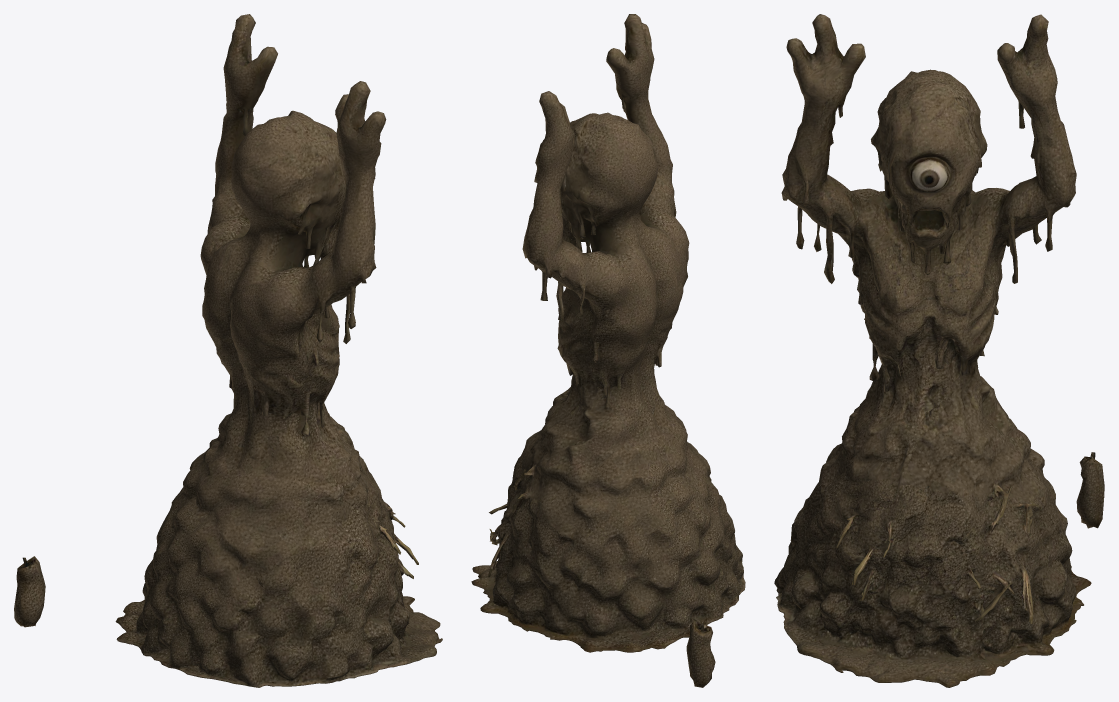
File: yokai-dorotabo.glb
3 views of the same model, side by side, from view 1: azimuth 30°, elevation 25°; view 2: azimuth 150°, elevation 25°; view 3: azimuth 270°, elevation 25° (orthographic). The views are drawn at different scales.
Visible parts, largest first — view 1: tripo_node_af73241c-d289-4f10-8d00-4f141ad0290a; view 2: tripo_node_af73241c-d289-4f10-8d00-4f141ad0290a; view 3: tripo_node_af73241c-d289-4f10-8d00-4f141ad0290a.
Part boxes in pixels (x1,y1,x2,y2): tripo_node_af73241c-d289-4f10-8d00-4f141ad0290a: [14, 14, 442, 687]; tripo_node_af73241c-d289-4f10-8d00-4f141ad0290a: [471, 14, 745, 687]; tripo_node_af73241c-d289-4f10-8d00-4f141ad0290a: [774, 14, 1104, 687].
Size of the model in its own units: 0.586 by 1 by 0.4867.
1 material, 1 textured.
